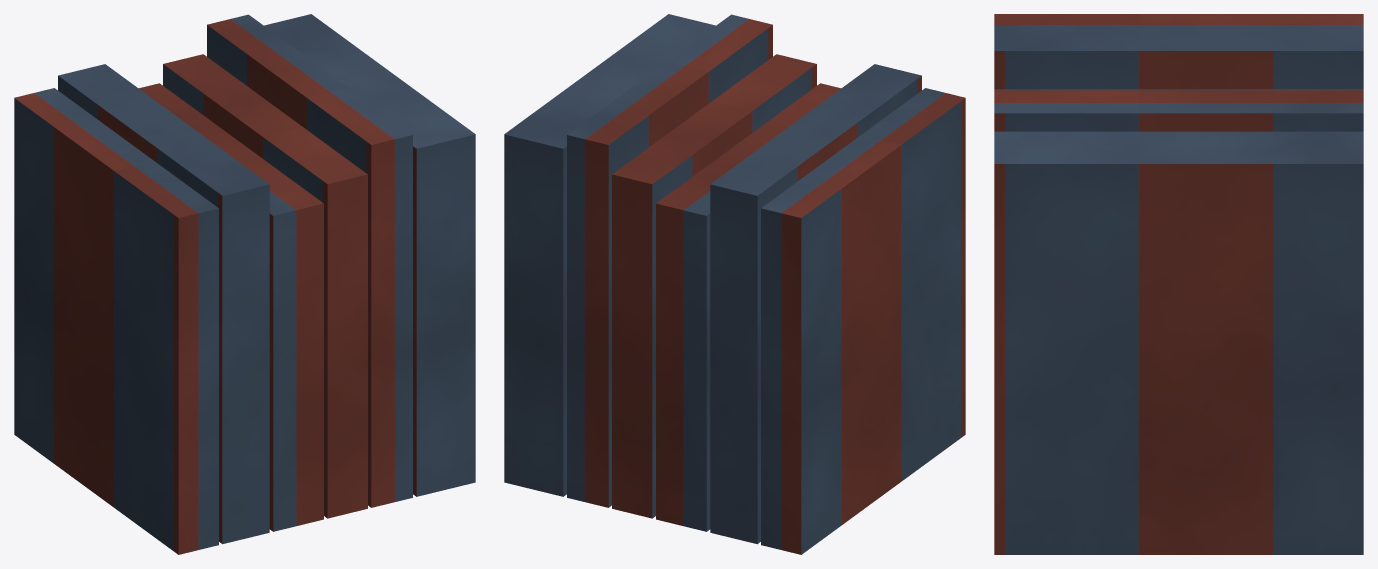
File: BookGroup_Small_3_LOD2.gltf
3 renders of one model, left to right at view 1: azimuth 30°, elevation 25°; view 2: azimuth 150°, elevation 25°; view 3: azimuth 270°, elevation 25°, orthographic. The views are drawn at different scales.
Parts seen in each view (by area): view 1: BookGroup_Small_3_LOD2; view 2: BookGroup_Small_3_LOD2; view 3: BookGroup_Small_3_LOD2.
Boxes of the visible parts, x1,y1,x2,y2 form: BookGroup_Small_3_LOD2: (14,14,475,554); BookGroup_Small_3_LOD2: (504,14,965,554); BookGroup_Small_3_LOD2: (994,14,1363,554).
Bounding box in the file's own units: 0.24 × 0.28 × 0.23.
Materials: 1 (1 with a texture image).
